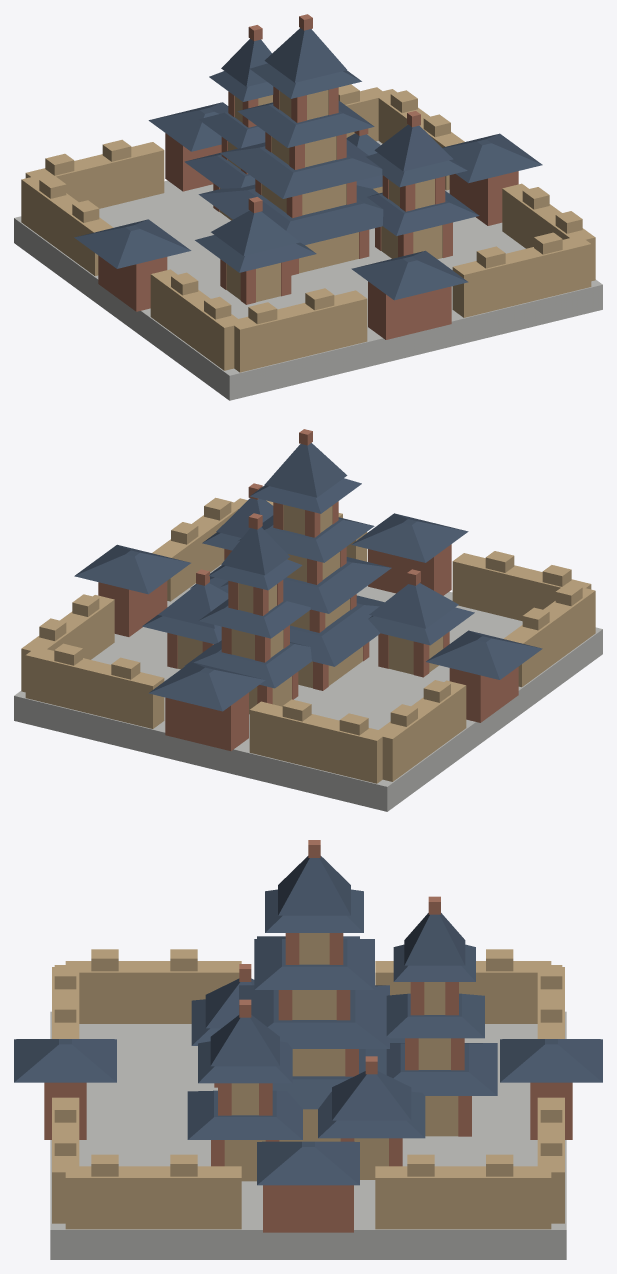
The model's file is castle-large.glb.
3 renders of one model, top to bottom at view 1: azimuth 30°, elevation 25°; view 2: azimuth 150°, elevation 25°; view 3: azimuth 270°, elevation 25°, orthographic. The views are drawn at different scales.
Parts seen in each view (by area): view 1: base, wall_S2, wall_S1, wall_N1, center_eave0, wall_W1, center_eave1, wall_W2, gate_S, gate_roof_W, gate_roof_S, center_eave2 (+32 smaller); view 2: base, wall_N2, wall_N1, wall_S1, wall_W2, wall_W1, gate_N, gate_roof_E, gate_roof_S, gate_roof_N, gate_roof_W, center_eave0 (+33 smaller); view 3: base, wall_E1, wall_E2, wall_W1, center_eave1, center_eave2, gate_roof_E, gate_roof_N, gate_roof_S, wall_W2, gate_E, sub4_eave0 (+45 smaller).
Boxes of the visible parts, x1=… form: base: x1=14, y1=141, x2=602, y2=400; wall_S2: x1=452, y1=238, x2=591, y2=317; wall_S1: x1=229, y1=290, x2=367, y2=372; wall_N1: x1=25, y1=142, x2=164, y2=208; center_eave0: x1=198, y1=184, x2=383, y2=244; wall_W1: x1=150, y1=269, x2=242, y2=370; center_eave1: x1=220, y1=139, x2=382, y2=198; wall_W2: x1=21, y1=175, x2=113, y2=275; gate_S: x1=368, y1=281, x2=451, y2=339; gate_roof_W: x1=74, y1=219, x2=191, y2=268; gate_roof_S: x1=351, y1=250, x2=468, y2=300; center_eave2: x1=237, y1=100, x2=374, y2=147; base: x1=14, y1=564, x2=602, y2=811; wall_N2: x1=25, y1=647, x2=164, y2=728; wall_N1: x1=249, y1=701, x2=387, y2=783; wall_S1: x1=452, y1=553, x2=591, y2=621; wall_W2: x1=373, y1=680, x2=466, y2=781; wall_W1: x1=503, y1=588, x2=595, y2=687; gate_N: x1=165, y1=692, x2=248, y2=750; gate_roof_E: x1=74, y1=544, x2=190, y2=594; gate_roof_S: x1=351, y1=513, x2=468, y2=562; gate_roof_N: x1=148, y1=662, x2=265, y2=711; gate_roof_W: x1=426, y1=630, x2=542, y2=679; center_eave0: x1=290, y1=595, x2=384, y2=666; base: x1=50, y1=1011, x2=566, y2=1259; wall_E1: x1=65, y1=1166, x2=241, y2=1229; wall_E2: x1=375, y1=1166, x2=551, y2=1229; wall_W1: x1=65, y1=961, x2=241, y2=1023; center_eave1: x1=239, y1=985, x2=389, y2=1048; center_eave2: x1=254, y1=939, x2=374, y2=989; gate_roof_E: x1=257, y1=1141, x2=359, y2=1185; gate_roof_N: x1=500, y1=1039, x2=602, y2=1082; gate_roof_S: x1=14, y1=1039, x2=116, y2=1082; wall_W2: x1=375, y1=961, x2=551, y2=1023; gate_E: x1=263, y1=1185, x2=353, y2=1232; sub4_eave0: x1=187, y1=1090, x2=302, y2=1139.
Size of the model in its own units: 2.79 by 1.61 by 2.79.
